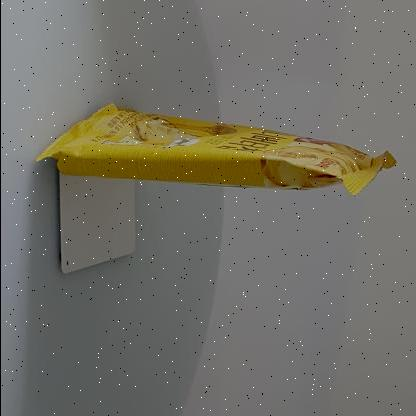Others: (22, 84, 404, 218)
